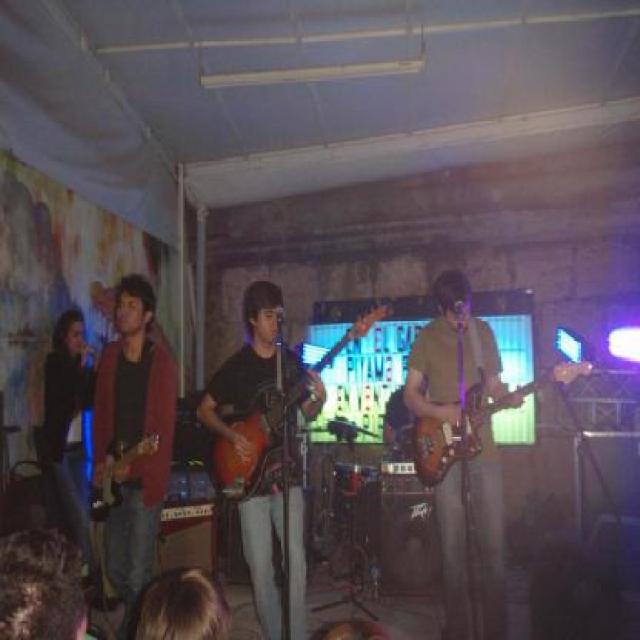Person: (397, 266, 529, 639), (195, 274, 328, 638), (90, 271, 178, 623), (37, 306, 105, 571), (0, 530, 100, 638), (133, 566, 241, 640), (380, 377, 429, 463), (312, 612, 393, 639)
